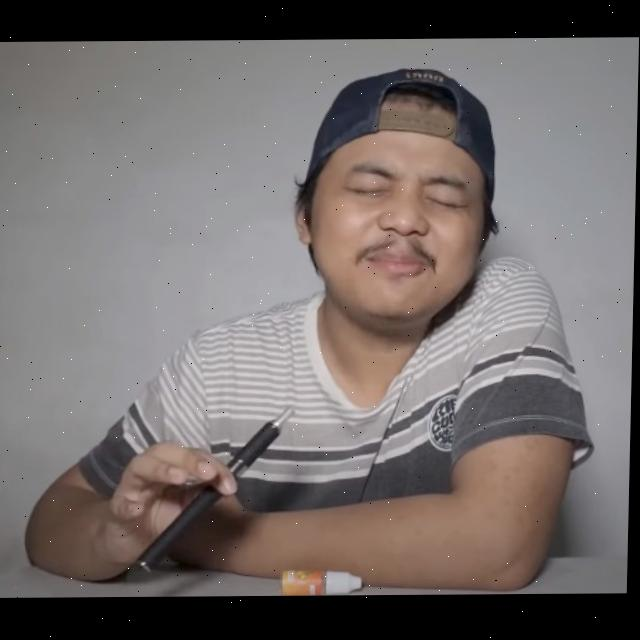vape: (137, 408, 297, 576)
